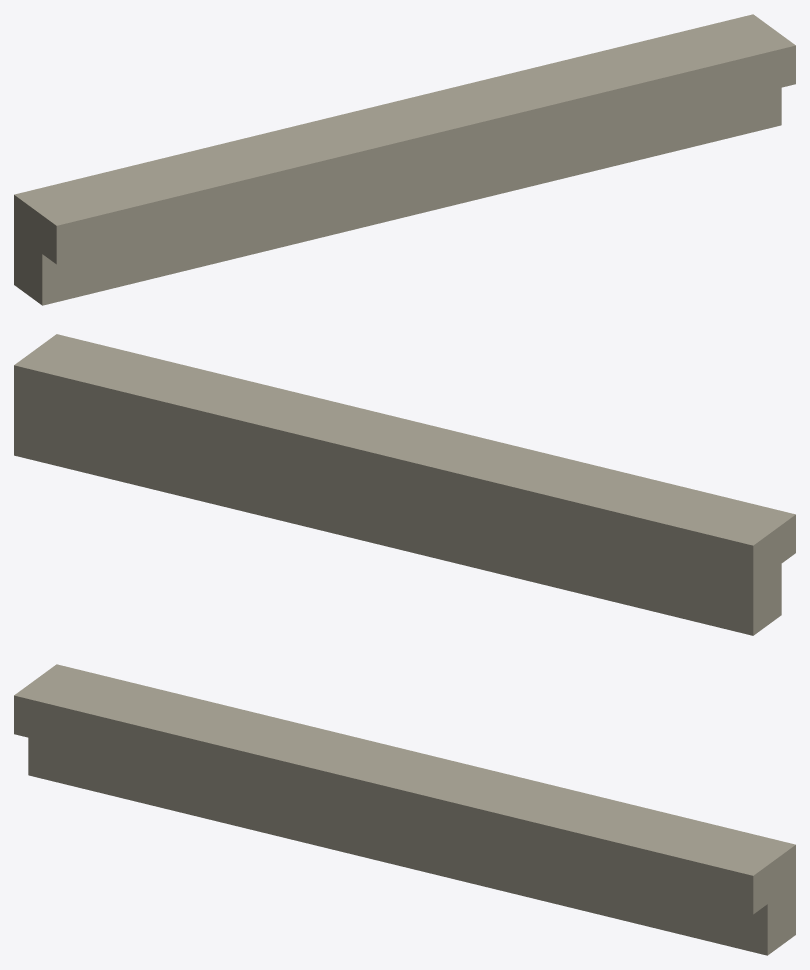
Rendered from victorian_horizontal_siding_1.fbx.
The picture shows the model from 3 angles, top to bottom: view 1: azimuth 30°, elevation 25°; view 2: azimuth 150°, elevation 25°; view 3: azimuth 330°, elevation 25°; orthographic projection.
Visible parts, largest first — view 1: Cube.168; view 2: Cube.168; view 3: Cube.168.
Boxes of the visible parts, box(x1,y1,x2,y2) form: Cube.168: box(14, 14, 795, 305); Cube.168: box(14, 334, 795, 635); Cube.168: box(14, 664, 795, 955).
Size of the model in its own units: 300 by 35 by 30.
